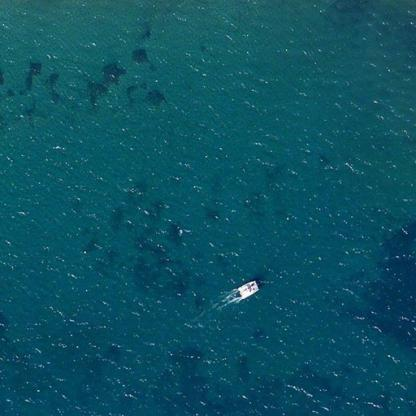ship: (233, 277, 258, 303)
